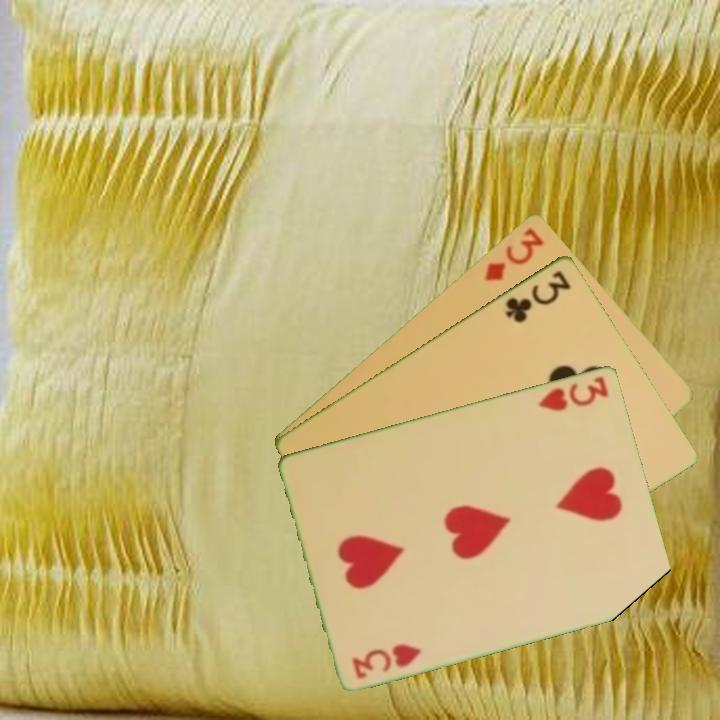3c: (502, 266, 574, 326)
3d: (480, 223, 547, 284)
3h: (535, 372, 612, 414), (348, 639, 424, 681)
